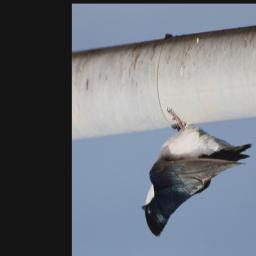Swallow: (141, 107, 252, 237)
